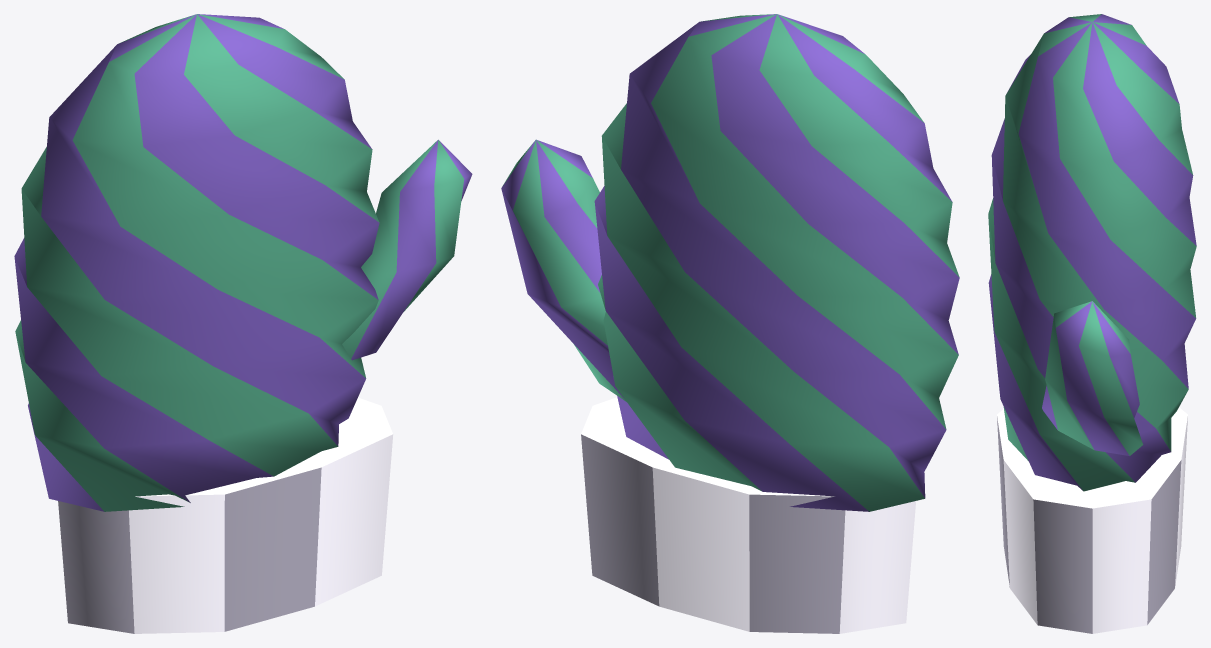
File: spiral-mitten.glb
3 views of the same model, side by side, from view 1: azimuth 30°, elevation 25°; view 2: azimuth 150°, elevation 25°; view 3: azimuth 270°, elevation 25° (orthographic). The views are drawn at different scales.
Parts seen in each view (by area): view 1: spiral-mitten; view 2: spiral-mitten; view 3: spiral-mitten.
Part boxes in pixels (box(x1,y1,x2,y2)): spiral-mitten: box(14, 14, 472, 633); spiral-mitten: box(501, 14, 959, 633); spiral-mitten: box(988, 14, 1196, 633).
Bounding box in the file's own units: 0.3963 × 0.492 × 0.1743.
